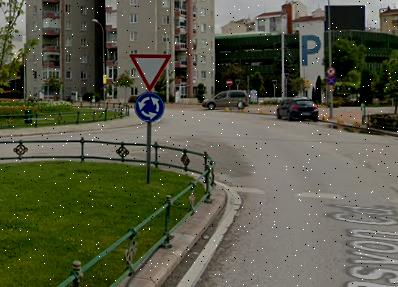crossroads: (134, 93, 166, 121)
rightturnsareforbidden: (327, 67, 336, 75)
